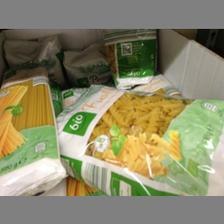Nudeln: (55, 82, 223, 194), (0, 61, 60, 194), (100, 28, 160, 88)
